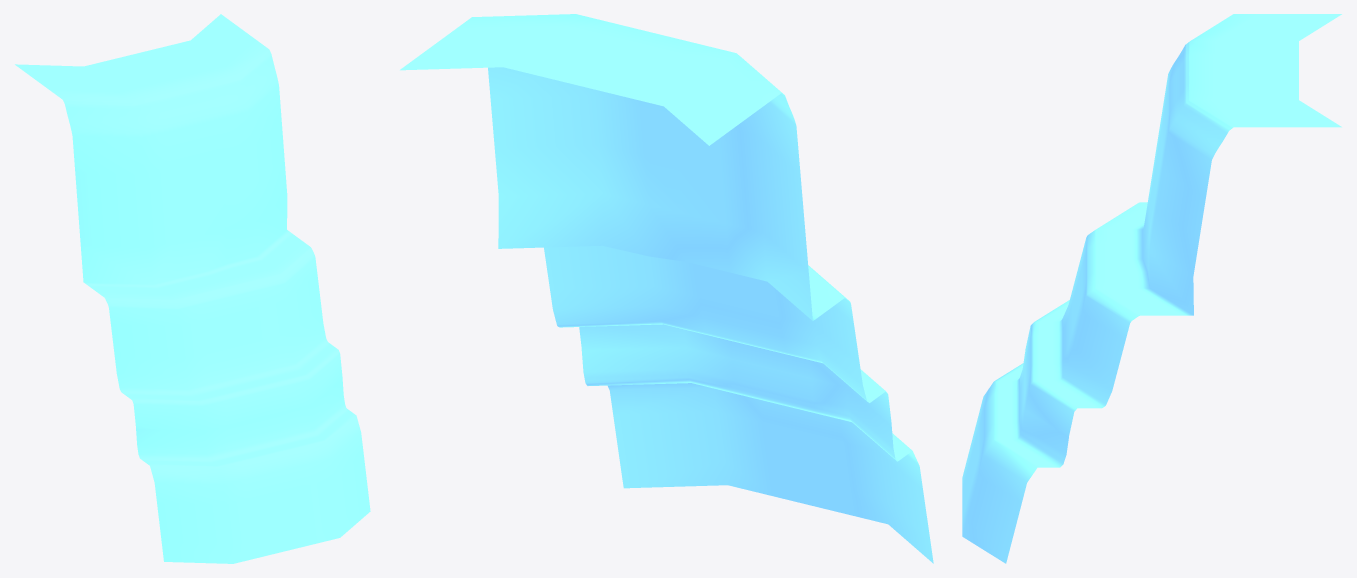
The model's file is waterfall.fbx.
3 renders of one model, left to right at view 1: azimuth 30°, elevation 25°; view 2: azimuth 150°, elevation 25°; view 3: azimuth 270°, elevation 25°, orthographic. The views are drawn at different scales.
Visible parts, largest first — view 1: waterfall; view 2: waterfall; view 3: waterfall.
Part boxes in pixels (bbox=[...]): waterfall: bbox=[15, 14, 370, 563]; waterfall: bbox=[400, 14, 933, 563]; waterfall: bbox=[962, 14, 1341, 563].
Size of the model in its own units: 2934 by 5266 by 4158.
